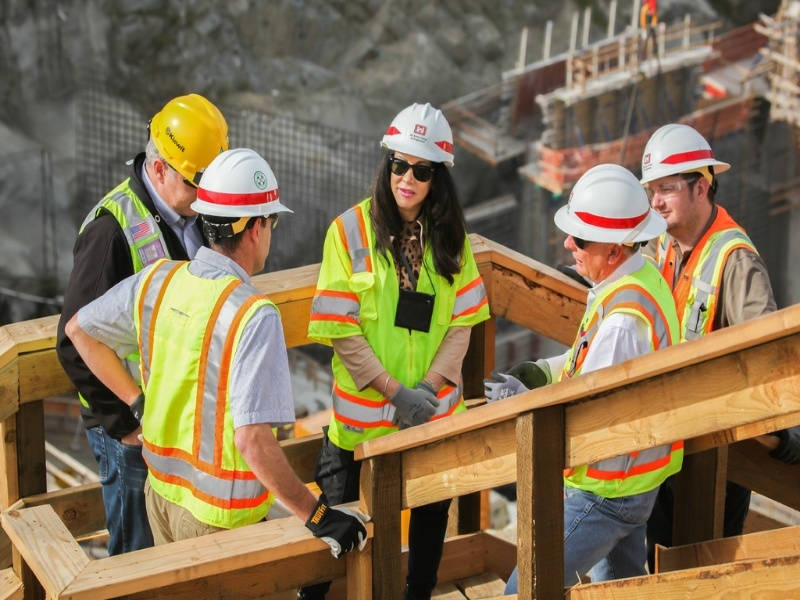baret: (555, 164, 667, 248), (145, 90, 230, 197), (188, 146, 294, 224), (638, 124, 731, 187), (380, 103, 459, 174)
